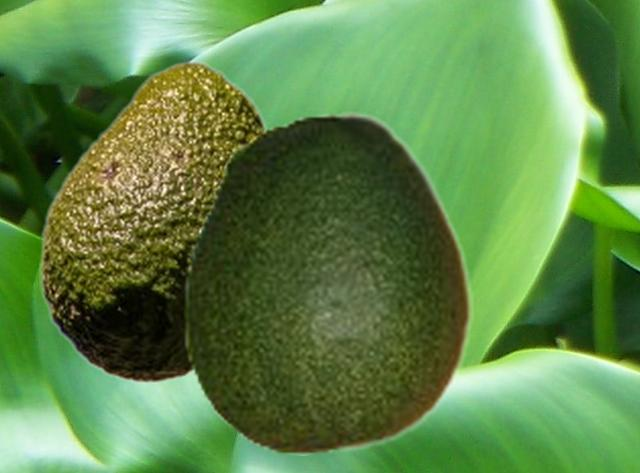avocado: (182, 111, 472, 454), (39, 60, 270, 384)
